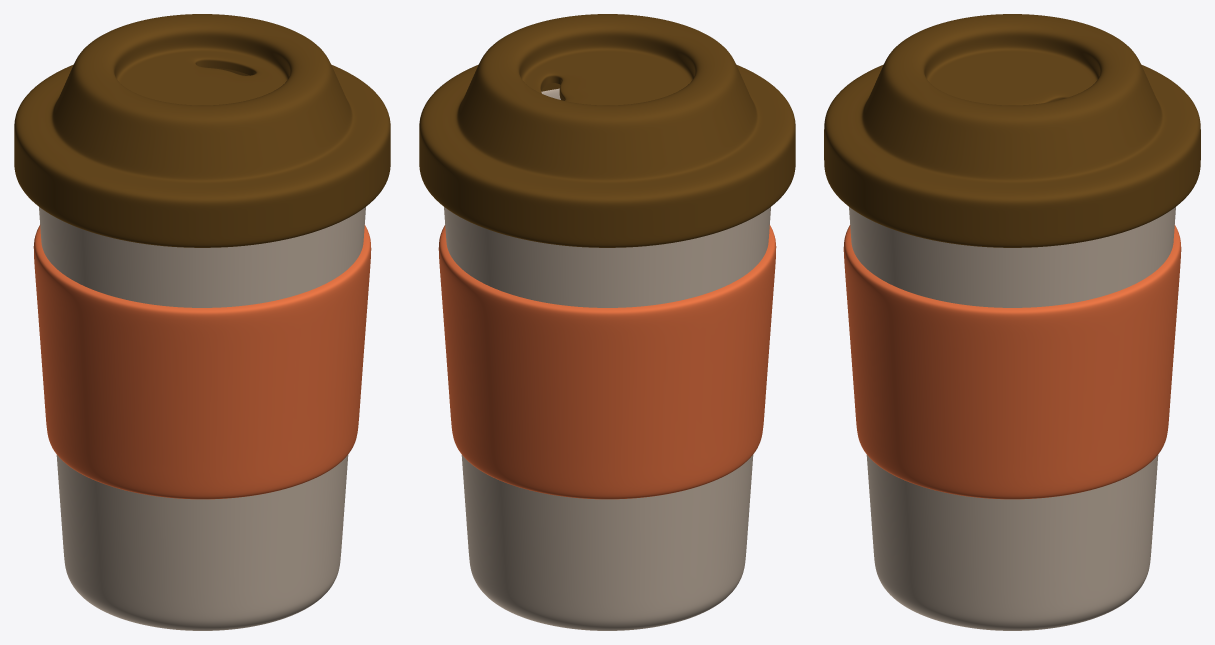
The model's file is takeway-cup.glb.
The picture shows the model from 3 angles, left to right: view 1: azimuth 30°, elevation 25°; view 2: azimuth 150°, elevation 25°; view 3: azimuth 270°, elevation 25°; orthographic projection.
Visible parts, largest first — view 1: takeaway; view 2: takeaway; view 3: takeaway.
Part boxes in pixels (x1,y1,x2,y2): takeaway: (14,14,390,630); takeaway: (419,14,795,630); takeaway: (824,14,1200,630).
Bounding box in the file's own units: 1.28 × 1.94 × 1.28.
